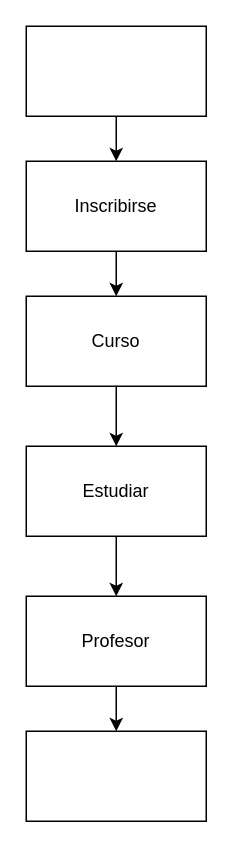
Image size: 233x848. Some labels were removed from this diagram. Here are the shapes that lost their labels. From the top down, the centre of each, then its label:
At (115,70): "Alumno".
At (115,775): "Evaluar".
